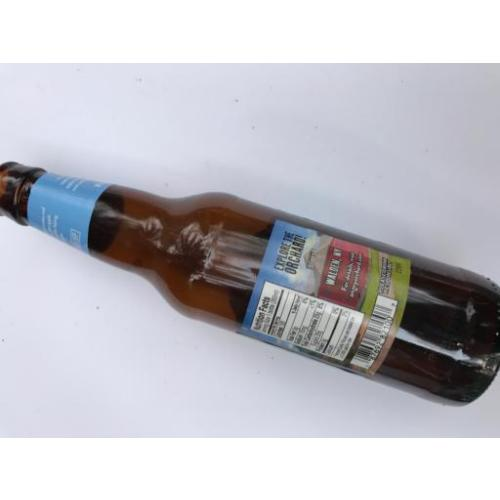glass: (0, 159, 499, 409)
